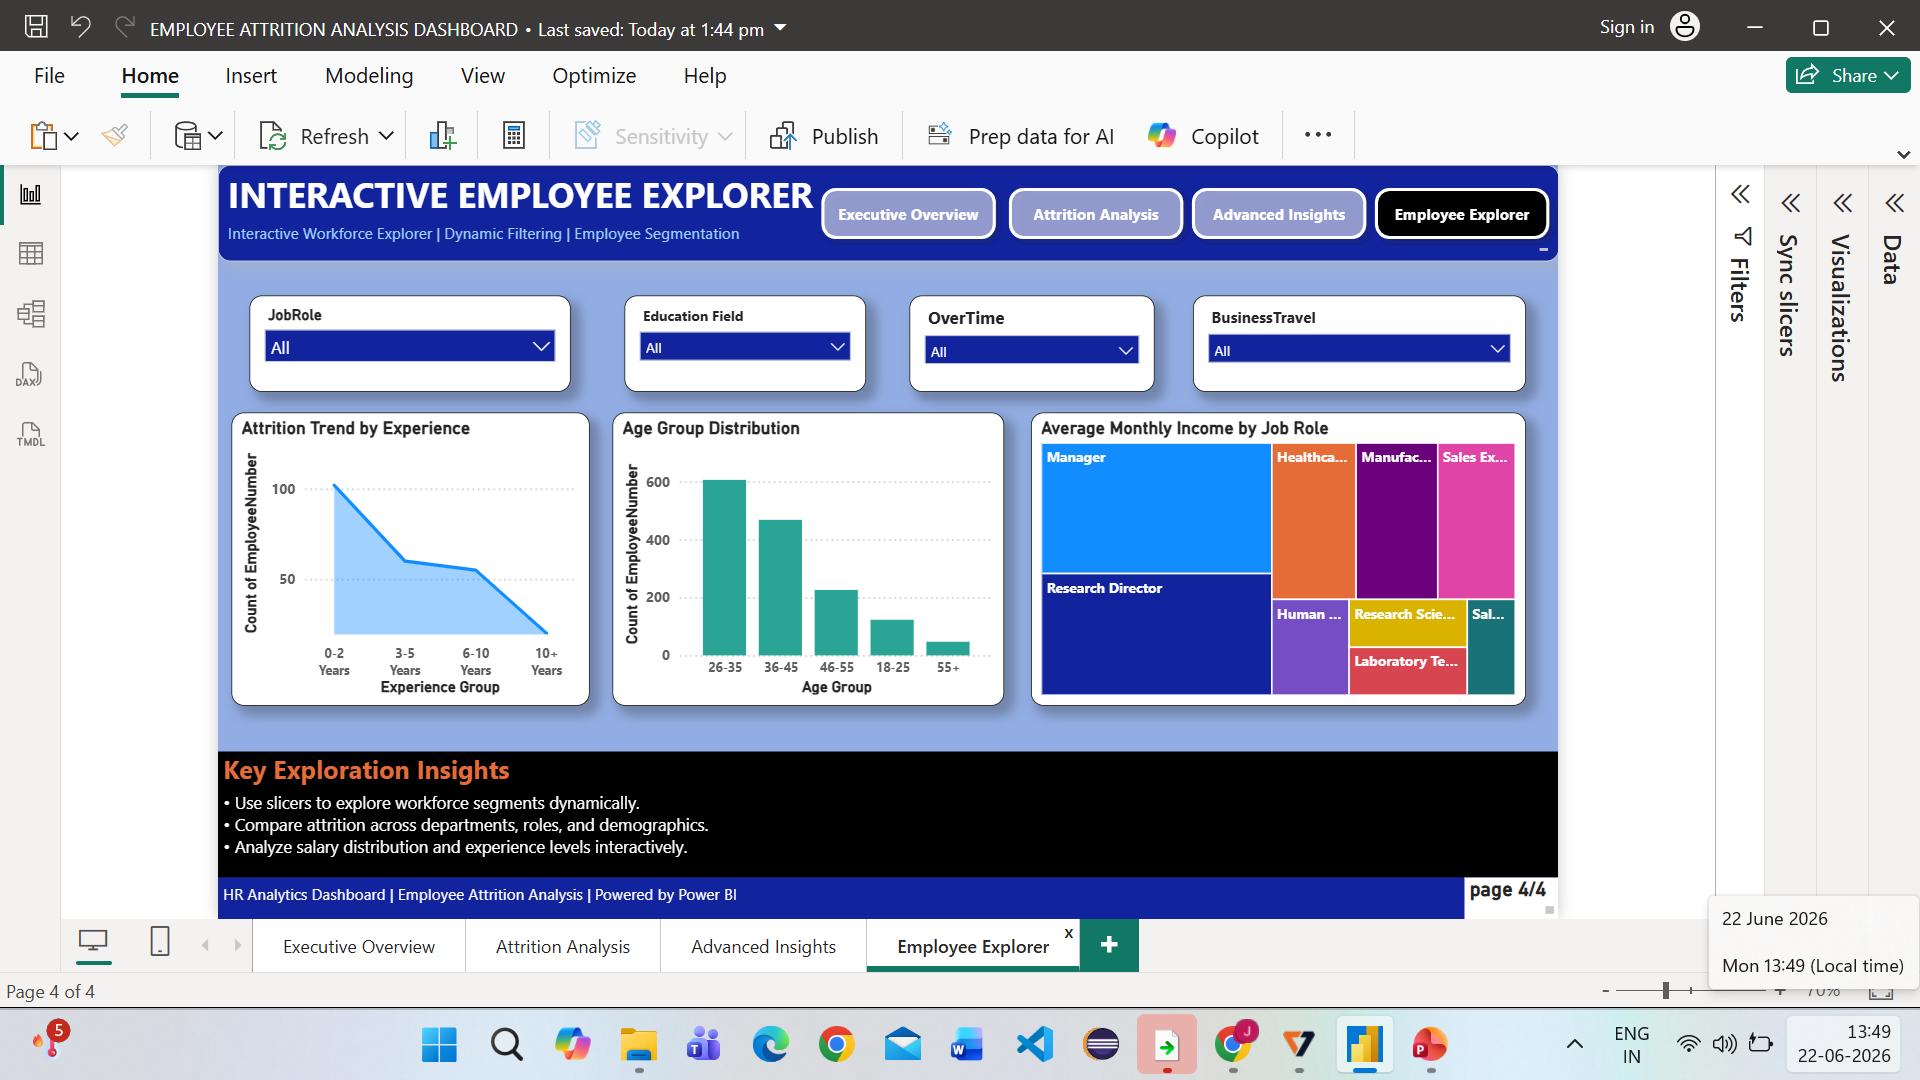

Layout of this report page (visuals, bound fields, positions):
{"tool":"powerbi","page":{"name":"Employee Explorer","canvas":[1280,720],"ordinal":3},"visuals":[{"type":"lineChart","title":"Attrition Trend by Experience","fields":{"Category":["WA_Fn-UseC_-HR-Employee-Attrition.Experience Group"],"Y":["CountNonNull(WA_Fn-UseC_-HR-Employee-Attrition.EmployeeNumber)"]},"box":[12.7,237,427.9,279.9],"z":0},{"type":"textbox","title":"INTERACTIVE EMPLOYEE EXPLORER","box":[0,0,1280.4,92.3],"z":1000},{"type":"clusteredColumnChart","title":"Age Group Distribution","fields":{"Category":["WA_Fn-UseC_-HR-Employee-Attrition.Age Group"],"Y":["CountNonNull(WA_Fn-UseC_-HR-Employee-Attrition.EmployeeNumber)"]},"box":[451.7,237,368,279.9],"z":2000},{"type":"treemap","title":"Average Monthly Income by Job Role","fields":{"Group":["WA_Fn-UseC_-HR-Employee-Attrition.JobRole"],"Values":["Avg(WA_Fn-UseC_-HR-Employee-Attrition.MonthlyIncome)"]},"box":[827.1,237,442.2,279.9],"z":3000},{"type":"slicer","fields":{"Values":["WA_Fn-UseC_-HR-Employee-Attrition.JobRole"]},"box":[30.2,124.1,307,92.3],"z":7000},{"type":"slicer","fields":{"Values":["WA_Fn-UseC_-HR-Employee-Attrition.EducationField"]},"box":[388.1,124.1,230.6,92.3],"z":8000},{"type":"slicer","fields":{"Values":["WA_Fn-UseC_-HR-Employee-Attrition.OverTime"]},"box":[660.1,124.1,233.8,92.3],"z":9000},{"type":"slicer","fields":{"Values":["WA_Fn-UseC_-HR-Employee-Attrition.BusinessTravel"]},"box":[930.5,124.1,318.1,92.3],"z":10000},{"type":"textbox","title":"Key Exploration Insights","box":[0,559.9,1280.4,120.9],"z":12000},{"type":"textbox","box":[0,680.8,1280.4,39.8],"z":13000},{"type":"textbox","title":"page 4/4","box":[1189.8,680.8,90.7,39.8],"z":13001},{"type":"actionButton","box":[567.8,12.7,184.5,66.8],"z":13002},{"type":"actionButton","box":[746,12.7,184.5,66.8],"z":13003},{"type":"actionButton","box":[921,12.7,184.5,66.8],"z":13004},{"type":"actionButton","box":[1095.9,12.7,184.5,66.8],"z":13005}]}

Visuals, with their boxes on the page's 1280x720 design canvas (x1, y1, x2, y2). These are canvas units, not pixel positions in the 1920x1080 screenshot, which may show the page scaled, cropped or inside an application window:
"Attrition Trend by Experience" lineChart: {"x1": 13, "y1": 237, "x2": 441, "y2": 517}
"INTERACTIVE EMPLOYEE EXPLORER" textbox: {"x1": 0, "y1": 0, "x2": 1280, "y2": 92}
"Age Group Distribution" clusteredColumnChart: {"x1": 452, "y1": 237, "x2": 820, "y2": 517}
"Average Monthly Income by Job Role" treemap: {"x1": 827, "y1": 237, "x2": 1269, "y2": 517}
slicer - WA_Fn-UseC_-HR-Employee-Attrition.JobRole: {"x1": 30, "y1": 124, "x2": 337, "y2": 216}
slicer - WA_Fn-UseC_-HR-Employee-Attrition.EducationField: {"x1": 388, "y1": 124, "x2": 619, "y2": 216}
slicer - WA_Fn-UseC_-HR-Employee-Attrition.OverTime: {"x1": 660, "y1": 124, "x2": 894, "y2": 216}
slicer - WA_Fn-UseC_-HR-Employee-Attrition.BusinessTravel: {"x1": 930, "y1": 124, "x2": 1249, "y2": 216}
"Key Exploration Insights" textbox: {"x1": 0, "y1": 560, "x2": 1280, "y2": 681}
textbox: {"x1": 0, "y1": 681, "x2": 1280, "y2": 721}
"page 4/4" textbox: {"x1": 1190, "y1": 681, "x2": 1280, "y2": 721}
actionButton: {"x1": 568, "y1": 13, "x2": 752, "y2": 80}
actionButton: {"x1": 746, "y1": 13, "x2": 930, "y2": 80}
actionButton: {"x1": 921, "y1": 13, "x2": 1106, "y2": 80}
actionButton: {"x1": 1096, "y1": 13, "x2": 1280, "y2": 80}
